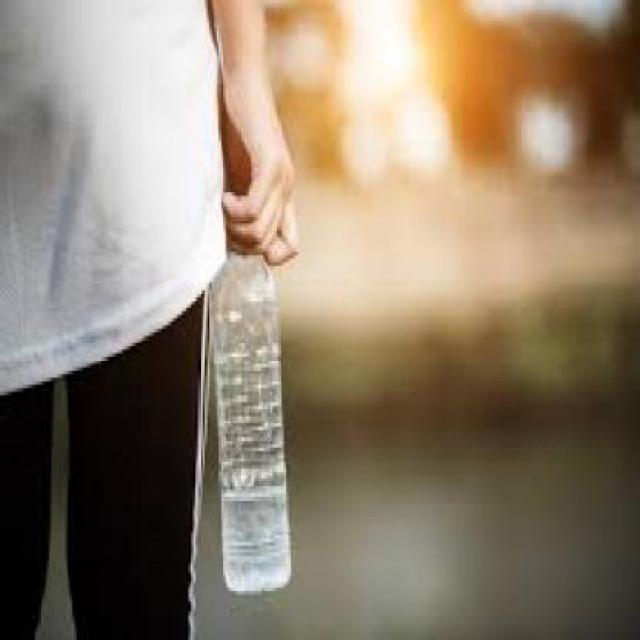Drinking: (188, 158, 298, 619)
